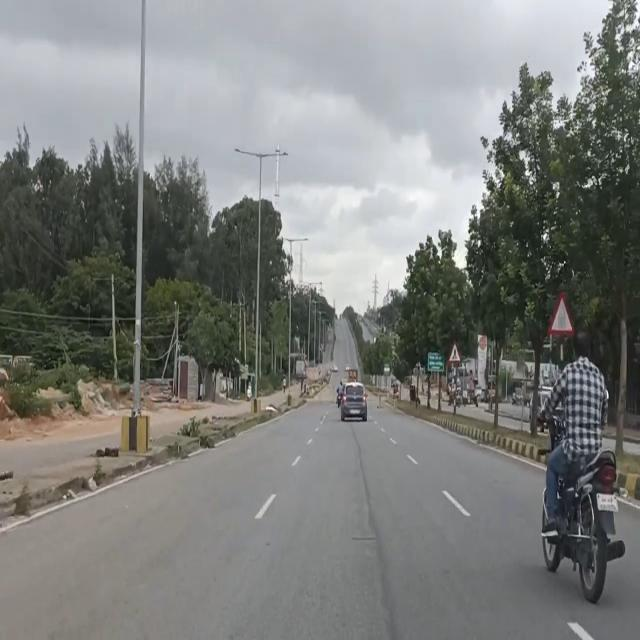bien_cam: (547, 288, 575, 338), (448, 340, 462, 364)
